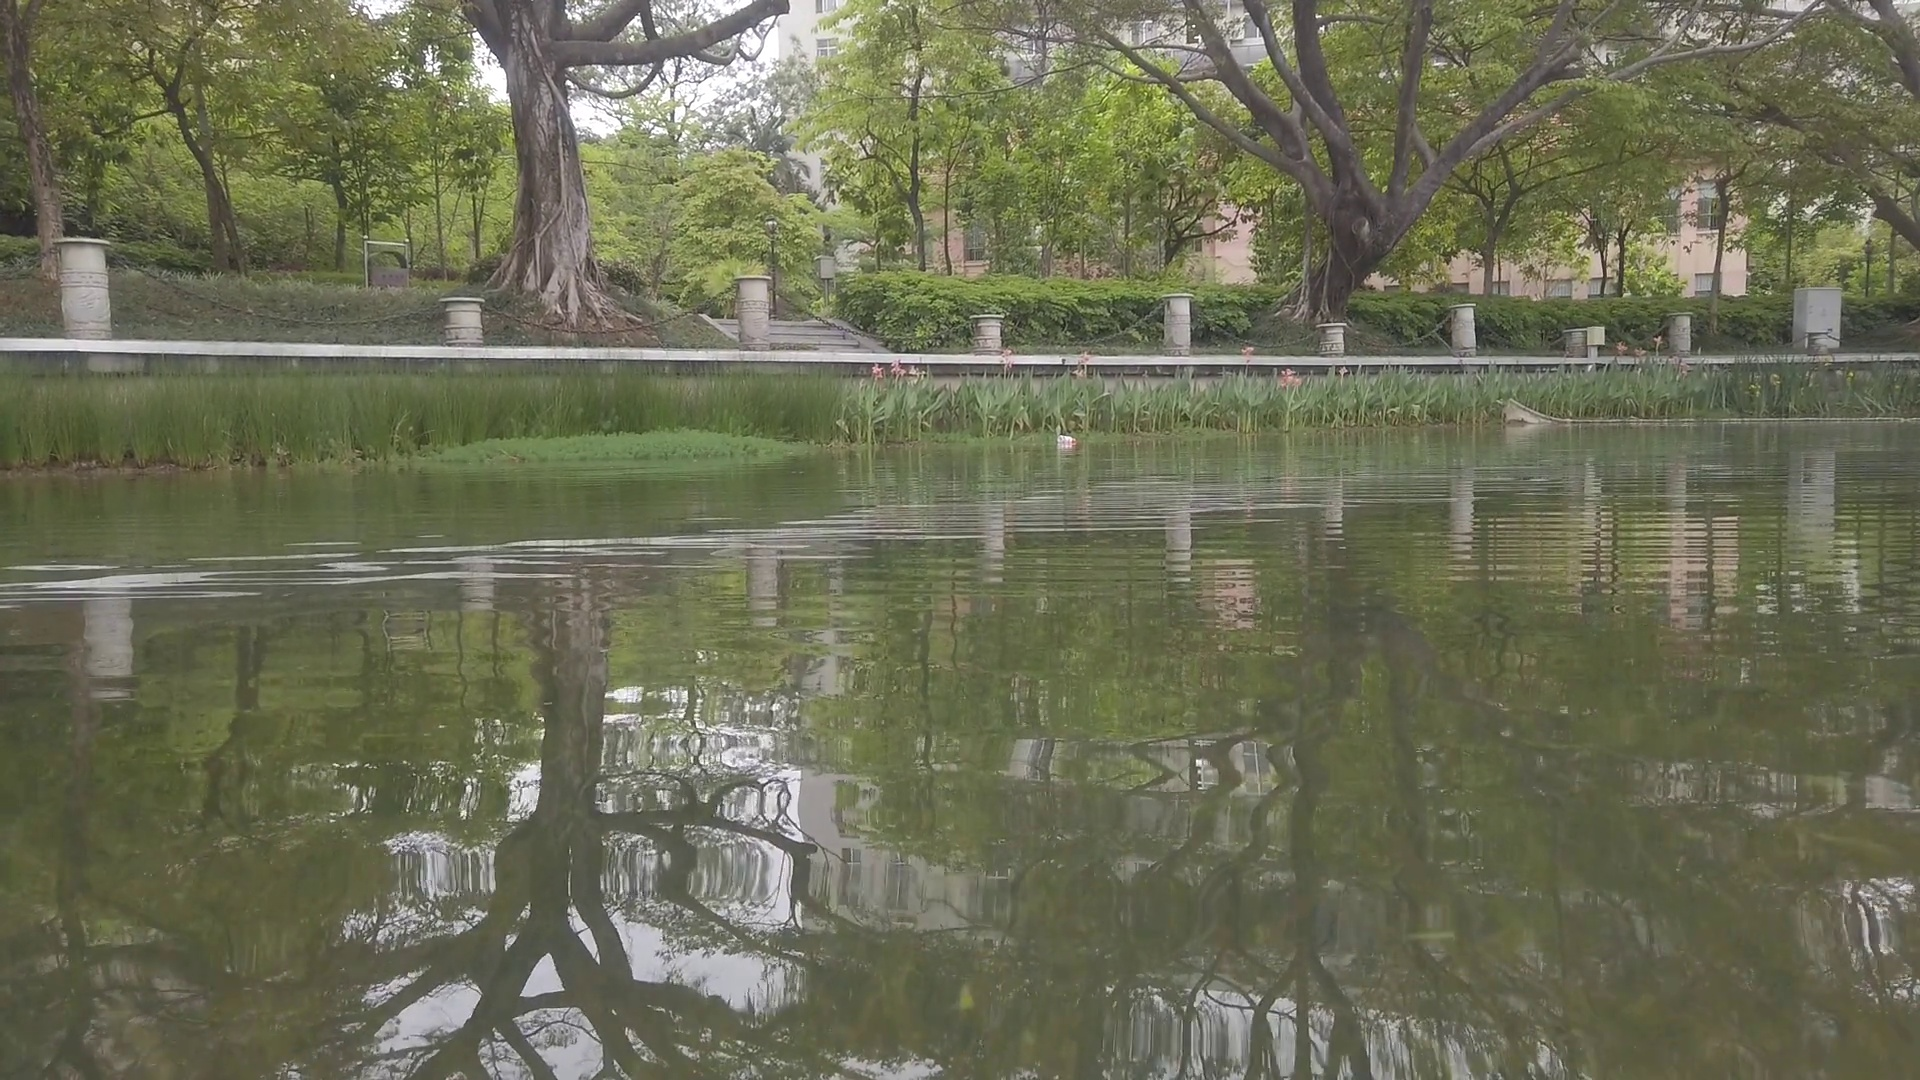bottle: (1055, 434, 1077, 443)
